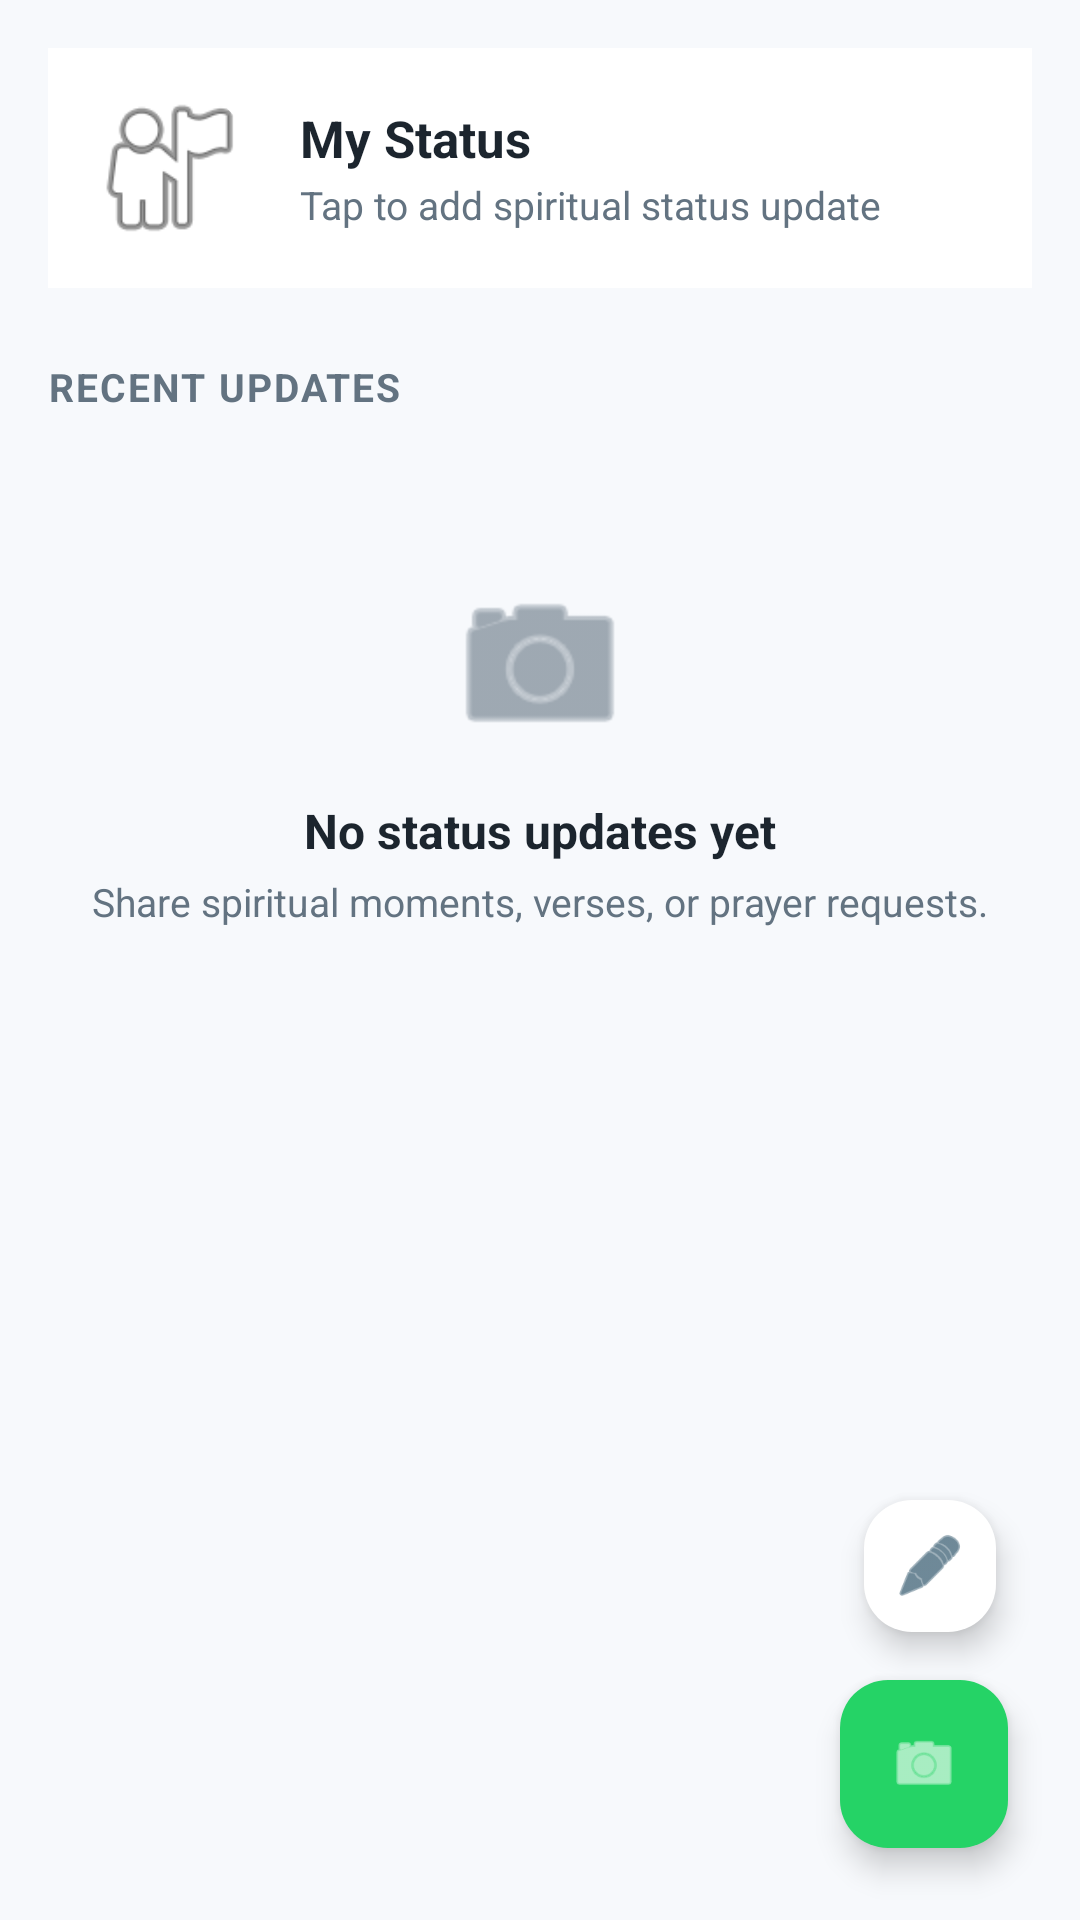

Icon bounding boxes for this 1080x1920 phone screenshot, format [x1,y1,x2,y2]:
camera: [466,604,614,722], [840,1680,1008,1848]
edit: [858,1499,1002,1638]
